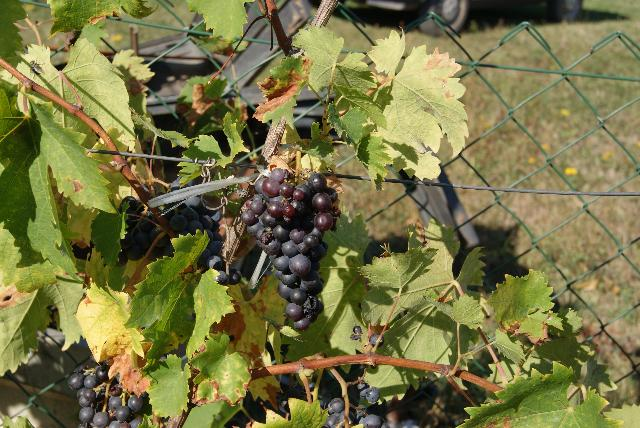grapes: (241, 169, 341, 331), (165, 195, 241, 282), (69, 361, 162, 428)
